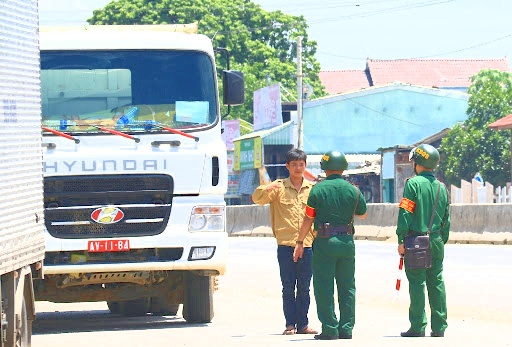plate: (84, 238, 132, 253)
